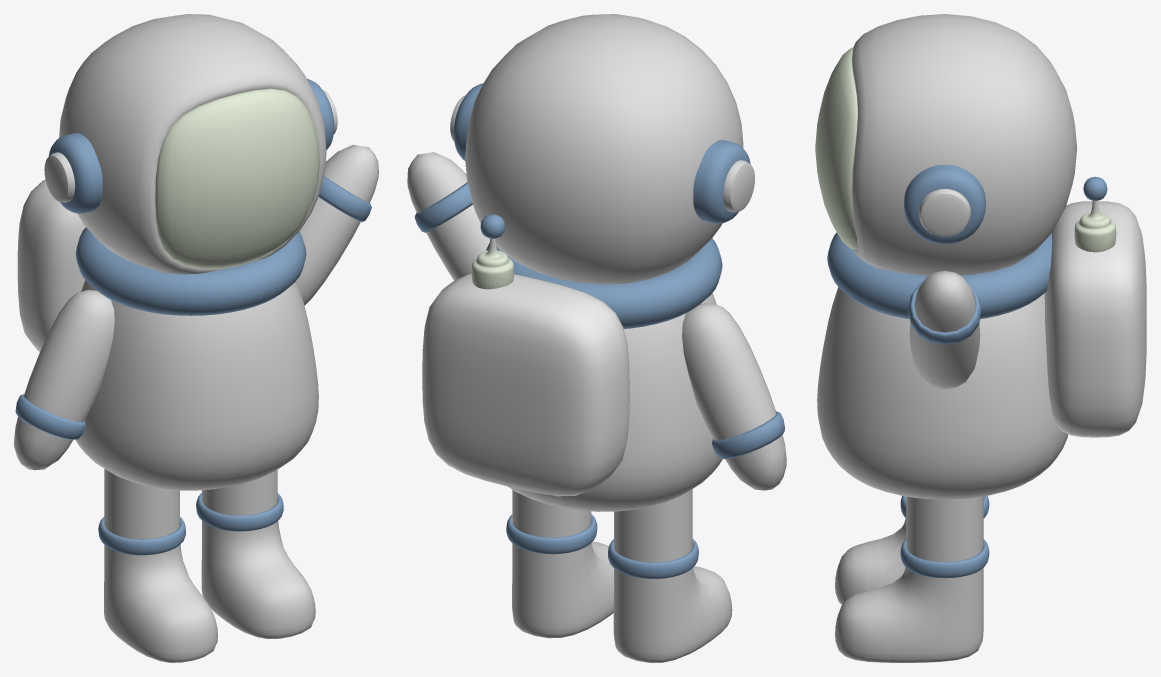
Rendered from astro04.glb.
The picture shows the model from 3 angles, left to right: view 1: azimuth 30°, elevation 25°; view 2: azimuth 150°, elevation 25°; view 3: azimuth 270°, elevation 25°; orthographic projection. The views are drawn at different scales.
Visible parts, largest first — view 1: Cube.002, Cube, Cube.003, Cube.001, Torus, Cube.008, Cube.007, Cube.005, Cylinder.001, Cube.004, Cube.009, Cube.006; view 2: Cube, Cube.007, Cube.003, Cube.002, Cube.008, Torus, Cylinder.001, Cube.005, Cube.004, Cylinder, Cube.009, Cube.006; view 3: Cube, Cube.002, Cube.007, Cube.003, Torus, Cube.001, Cube.005, Cylinder.001, Cylinder, Cube.004, Cube.006.
Part boxes in pixels (x1,y1,x2,y2): Cube.002: (75, 280, 318, 490); Cube: (59, 14, 326, 274); Cube.003: (104, 469, 315, 662); Cube.001: (155, 88, 319, 268); Torus: (75, 227, 306, 315); Cube.008: (14, 290, 114, 470); Cube.007: (17, 179, 85, 351); Cube.005: (296, 145, 378, 305); Cylinder.001: (44, 78, 337, 213); Cube.004: (98, 493, 283, 555); Cube.009: (15, 394, 85, 439); Cube.006: (318, 176, 371, 222); Cube: (465, 14, 743, 284); Cube.007: (422, 273, 629, 496); Cube.003: (512, 489, 732, 662); Cube.002: (508, 293, 722, 511); Cube.008: (682, 303, 786, 490); Torus: (486, 238, 722, 328); Cylinder.001: (450, 83, 754, 223); Cube.005: (407, 152, 489, 280); Cube.004: (506, 514, 698, 578); Cylinder: (471, 214, 513, 289); Cube.009: (712, 411, 784, 458); Cube.006: (414, 182, 472, 232); Cube: (851, 14, 1077, 275); Cube.002: (817, 287, 1068, 499); Cube.007: (1044, 201, 1146, 437); Cube.003: (835, 496, 983, 662); Torus: (827, 232, 1052, 318); Cube.001: (815, 47, 857, 249); Cube.005: (909, 271, 980, 388); Cylinder.001: (904, 164, 985, 244); Cylinder: (1074, 176, 1116, 252); Cube.004: (900, 496, 989, 578); Cube.006: (908, 281, 981, 344).
Size of the model in its own units: 1.56 by 2.44 by 1.23.
